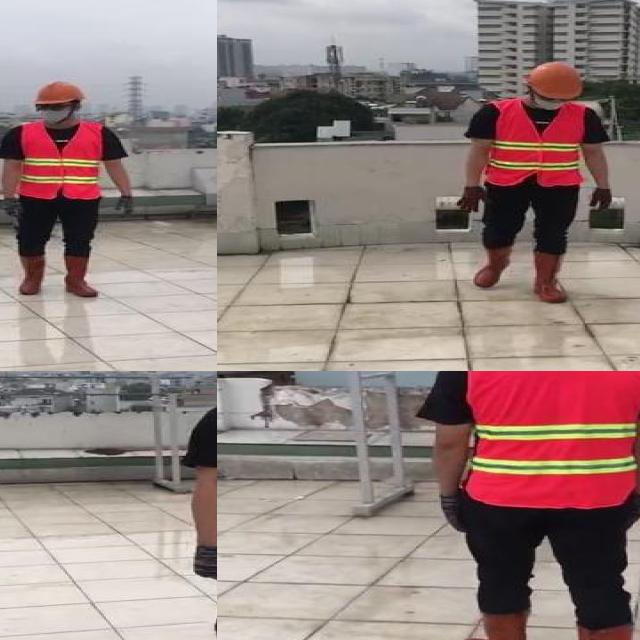boots: (459, 611, 537, 640), (532, 250, 574, 303), (471, 244, 512, 289), (64, 252, 103, 297), (16, 255, 46, 295)
face_mask: (526, 89, 574, 112), (34, 102, 69, 124)
glasses: (33, 101, 69, 112)
hand_glove: (441, 493, 469, 532), (457, 187, 493, 213), (193, 545, 217, 581), (588, 187, 614, 213), (0, 197, 22, 219), (118, 195, 136, 213)
head_helmet: (528, 60, 582, 100), (32, 80, 86, 104)
person: (403, 371, 640, 640), (449, 59, 616, 309), (0, 77, 137, 300)
vest: (464, 371, 640, 511), (488, 102, 582, 187), (20, 122, 100, 197)
